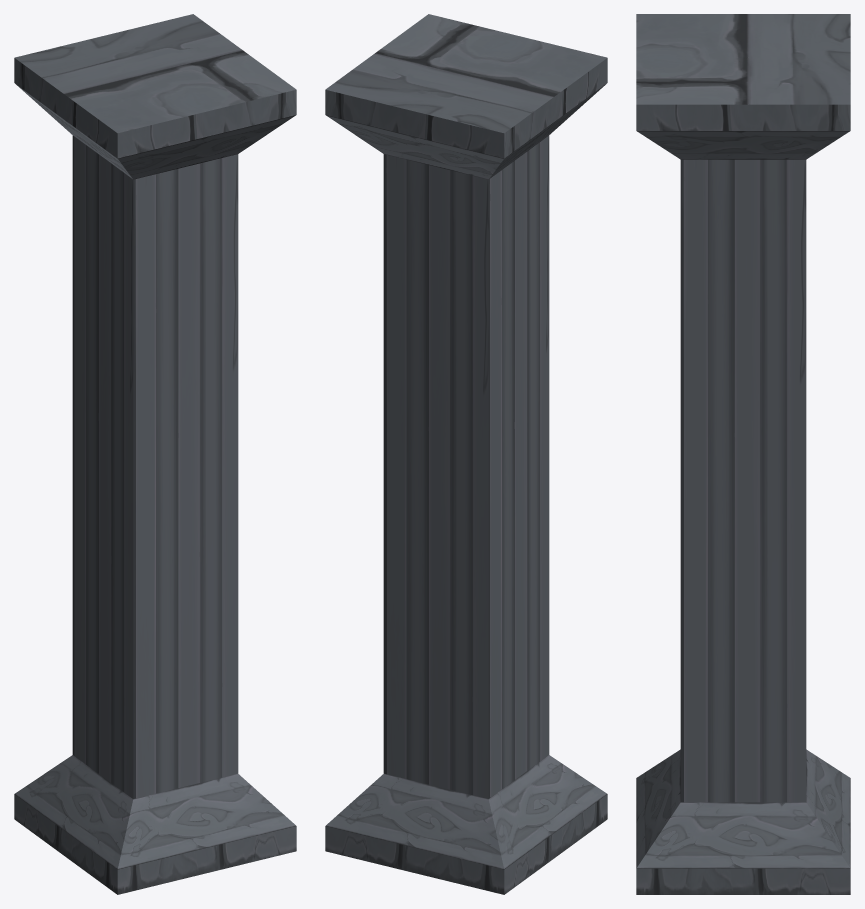
Rendered from Pillar.fbx.
The picture shows the model from 3 angles, left to right: view 1: azimuth 30°, elevation 25°; view 2: azimuth 150°, elevation 25°; view 3: azimuth 270°, elevation 25°; orthographic projection. The views are drawn at different scales.
Parts seen in each view (by area): view 1: Cube; view 2: Cube; view 3: Cube.
Boxes of the visible parts, x1,y1,x2,y2 form: Cube: (14, 14, 296, 894); Cube: (325, 14, 607, 894); Cube: (636, 14, 850, 894).
Bounding box in the file's own units: 73.81 × 300 × 73.81.
